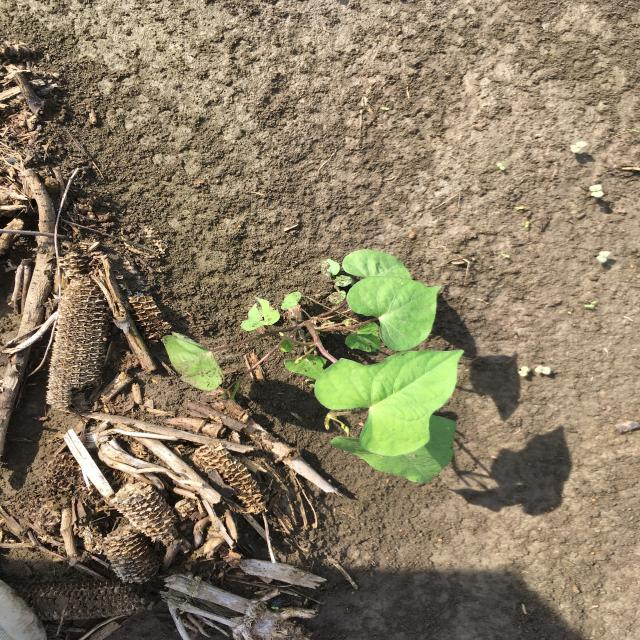MorningGlory: (155, 247, 469, 488)
